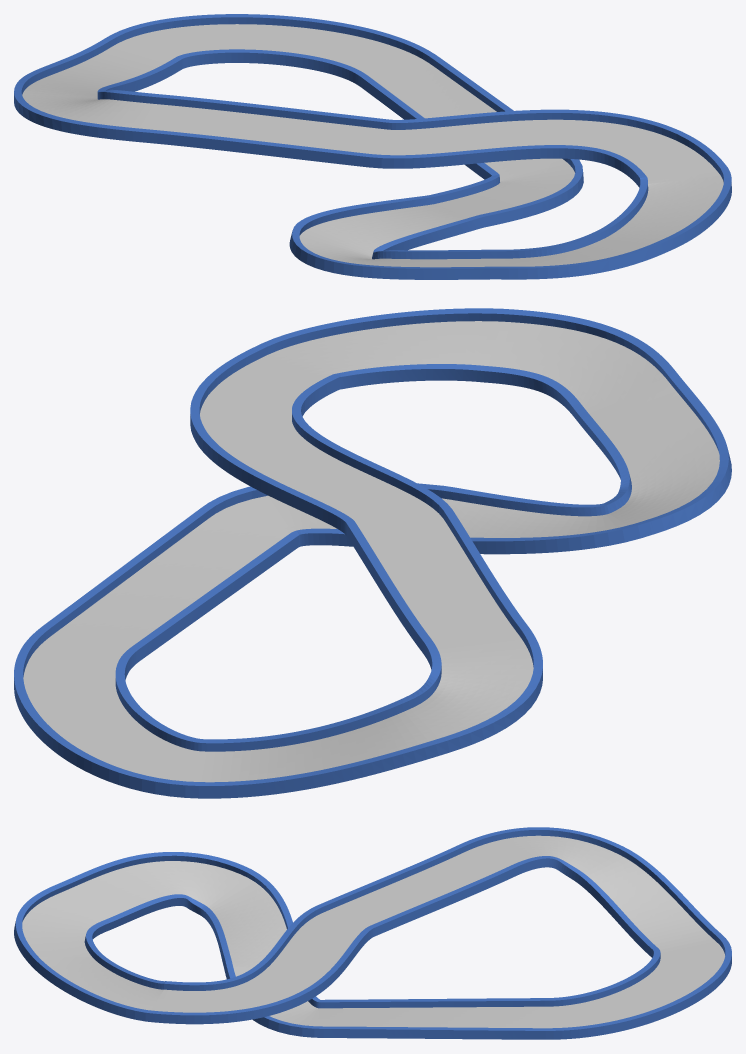
Rendered from track1.obj.
The picture shows the model from 3 angles, top to bottom: view 1: azimuth 30°, elevation 25°; view 2: azimuth 150°, elevation 25°; view 3: azimuth 270°, elevation 25°; orthographic projection. The views are drawn at different scales.
Parts seen in each view (by area): view 1: track, sides; view 2: track, sides; view 3: track, sides.
Boxes of the visible parts, bbox=[...] form: track: bbox=[22, 24, 723, 267]; sides: bbox=[14, 14, 731, 279]; track: bbox=[23, 321, 719, 782]; sides: bbox=[14, 308, 731, 798]; track: bbox=[22, 835, 724, 1028]; sides: bbox=[14, 827, 731, 1039].
Bounding box in the file's own units: 141 × 20.77 × 221.
